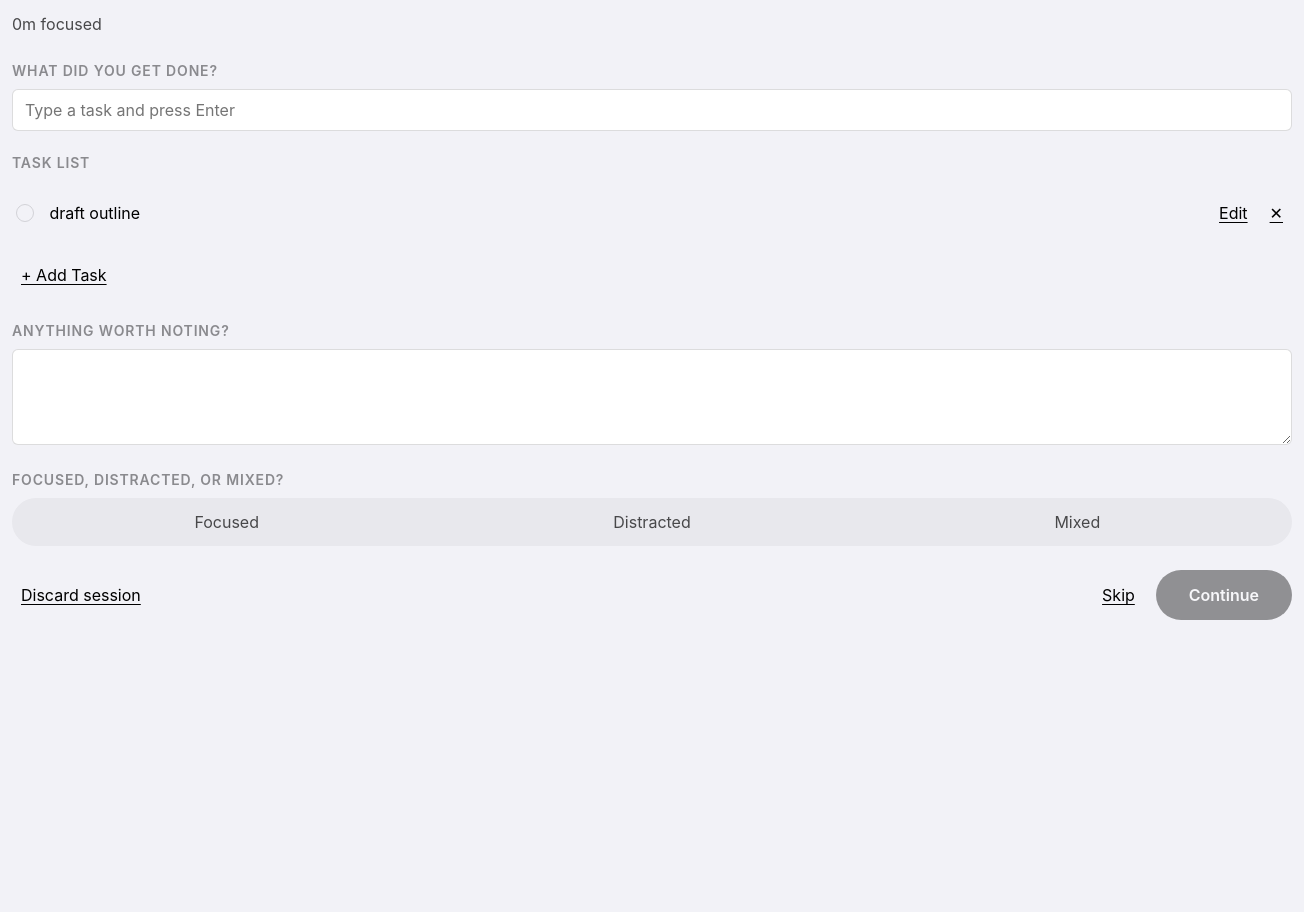
Test: AuditPrompt ticking tasks off › logs a typed task as completed on Enter, and clears the field
Type "answered support mail" into the field with id "audit-done". click: [652, 110]
box: [12,89,1292,131]
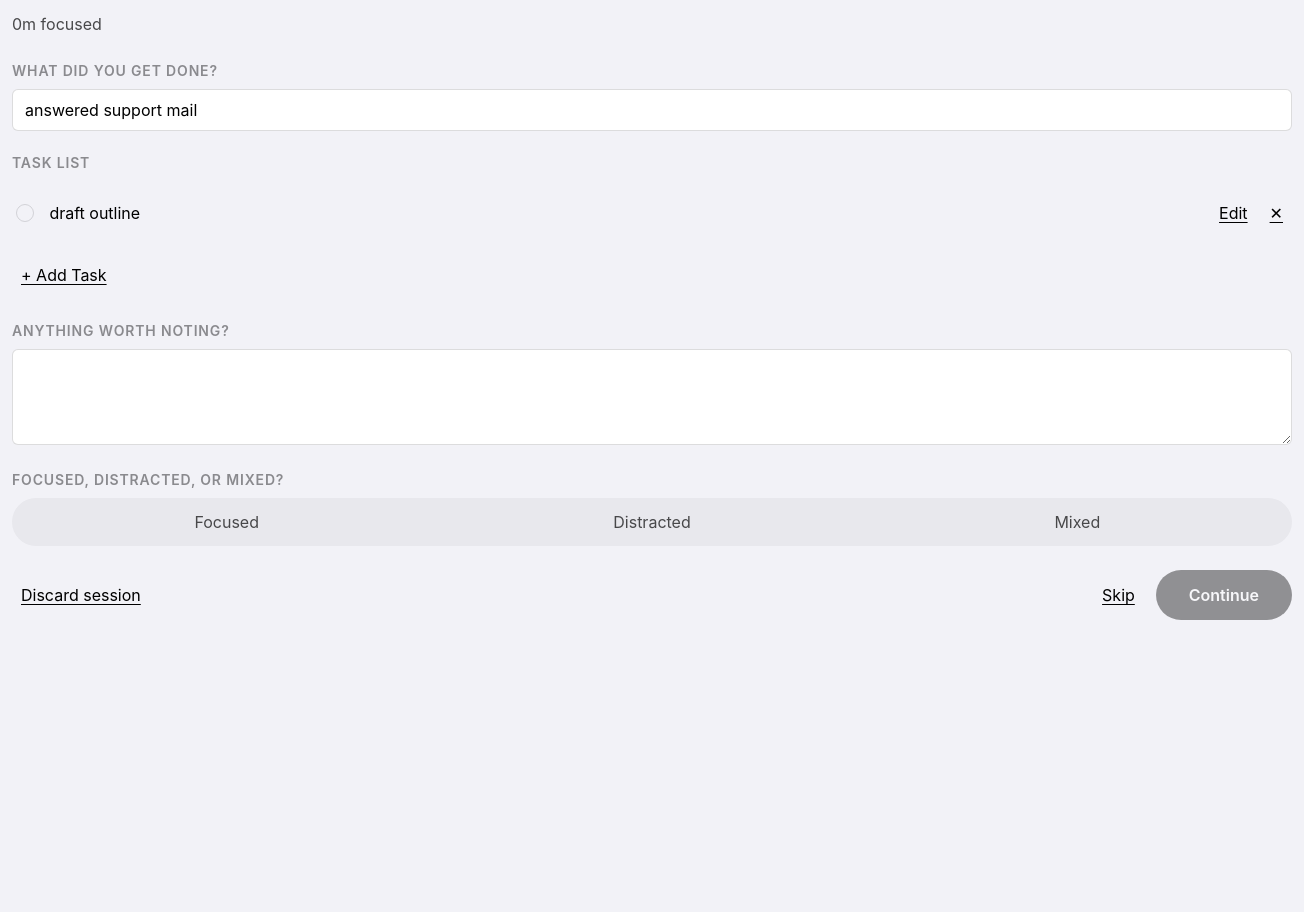
Press Enter in the field with id "audit-done", box [12,89,1292,131]
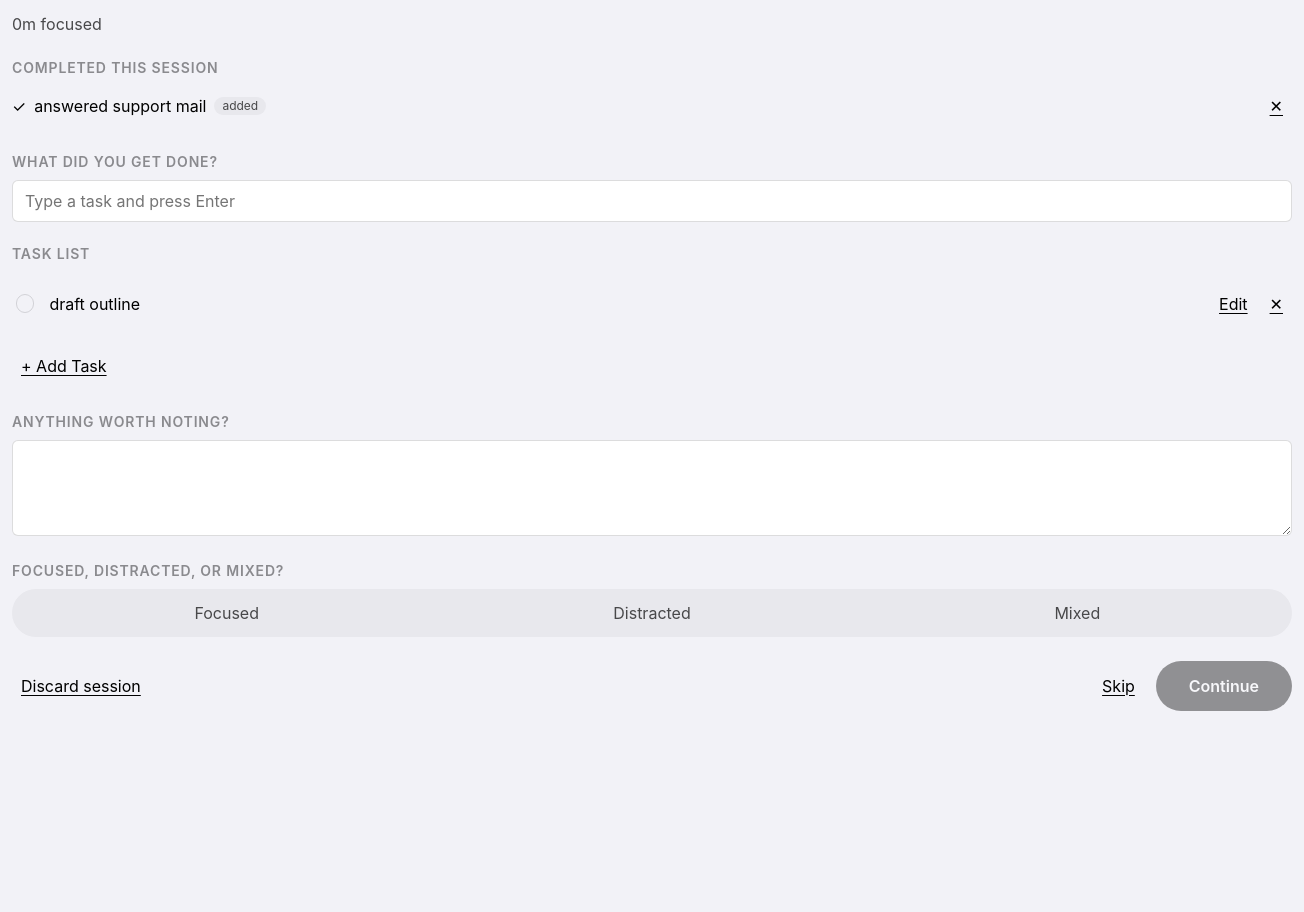
Check: the list item "answered support mail added ✕" is shown, box [12,85,1292,127]
Check: the text with class "task-badge" reads "added", box [222,98,258,113]
Check: the field with id "audit-done" is empty, box [12,180,1292,222]
